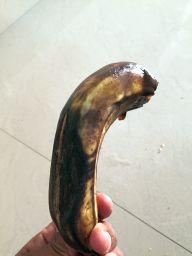banana: (45, 58, 161, 256)
